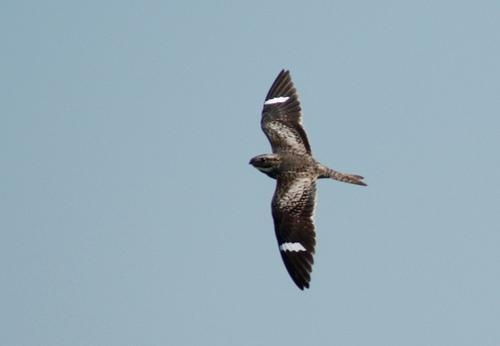bird: (247, 68, 368, 291)
